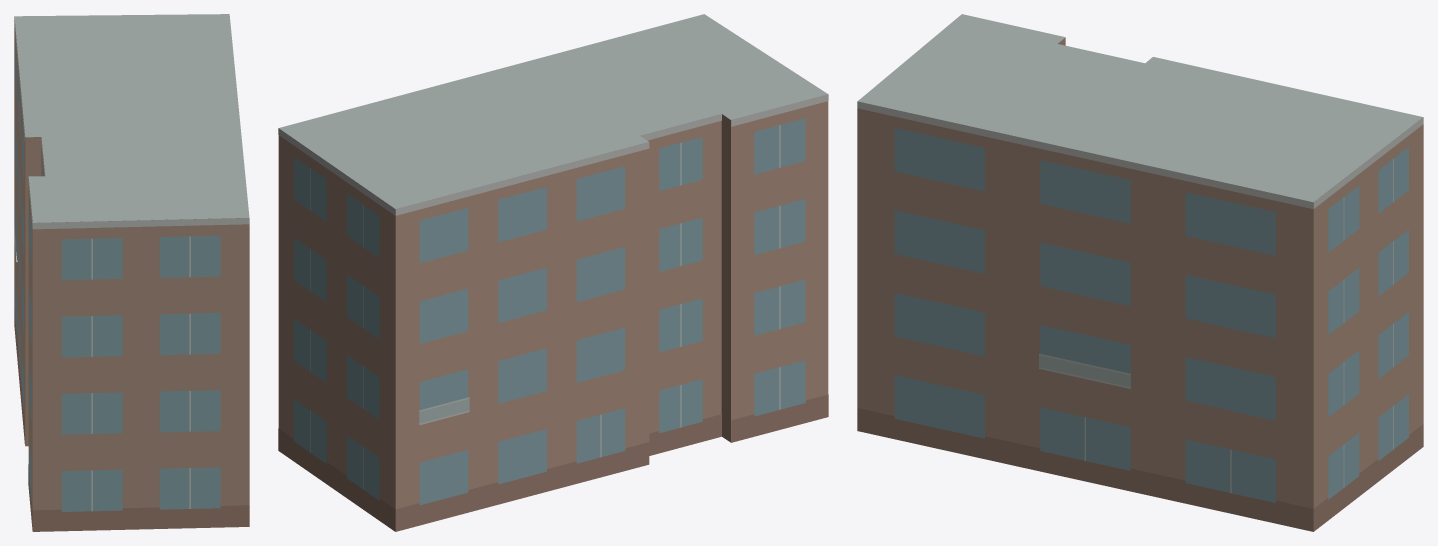
The model's file is survey-upis-32644400.glb.
3 views of the same model, side by side, from view 1: azimuth 30°, elevation 25°; view 2: azimuth 150°, elevation 25°; view 3: azimuth 270°, elevation 25° (orthographic). The views are drawn at different scales.
Visible parts, largest first — view 1: survey-upis-32644400.tmp; view 2: survey-upis-32644400.tmp; view 3: survey-upis-32644400.tmp.
Boxes of the visible parts, x1,y1,x2,y2 form: survey-upis-32644400.tmp: (14, 14, 249, 531); survey-upis-32644400.tmp: (278, 14, 828, 531); survey-upis-32644400.tmp: (857, 14, 1423, 531).
Bounding box in the file's own units: 14.22 × 11.6 × 18.07.
